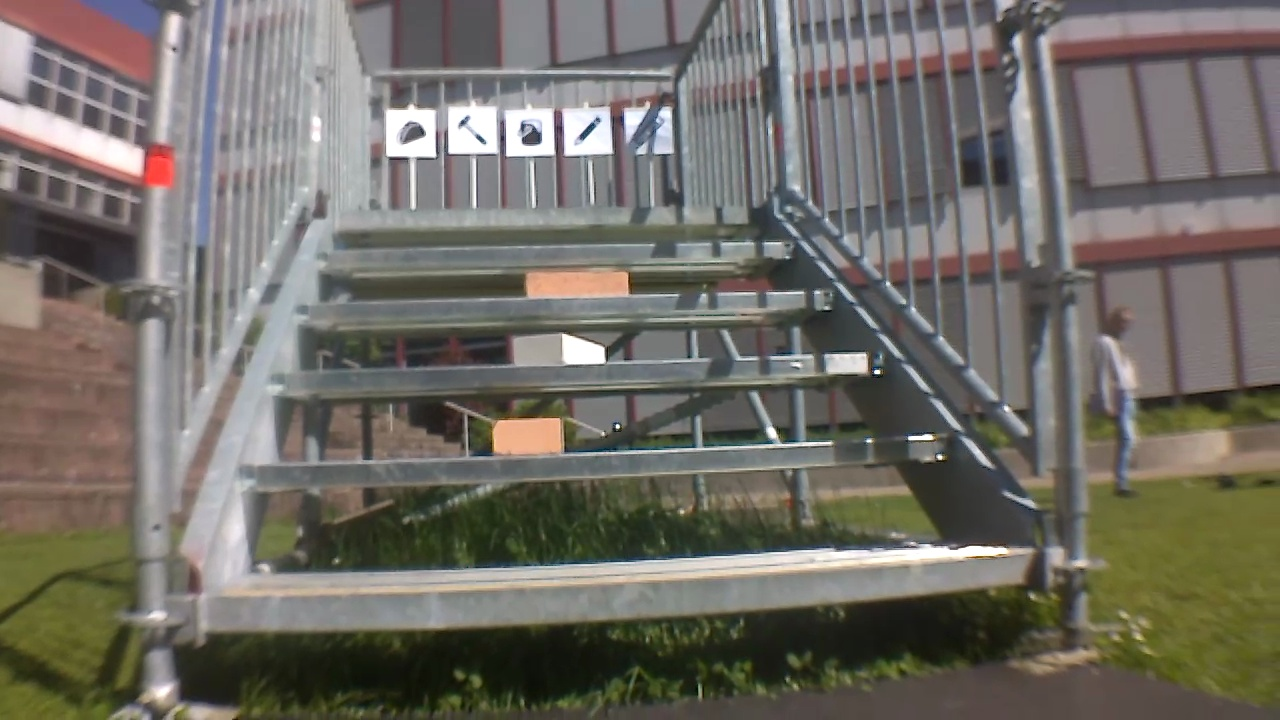brick: (503, 335, 610, 370), (487, 415, 566, 458), (529, 267, 630, 296)
edge: (199, 546, 1058, 645), (227, 432, 948, 501), (271, 350, 889, 400), (281, 292, 836, 333), (323, 242, 799, 272), (334, 204, 766, 235)
stairs: (155, 0, 1072, 718)
steps: (180, 195, 1033, 648)
